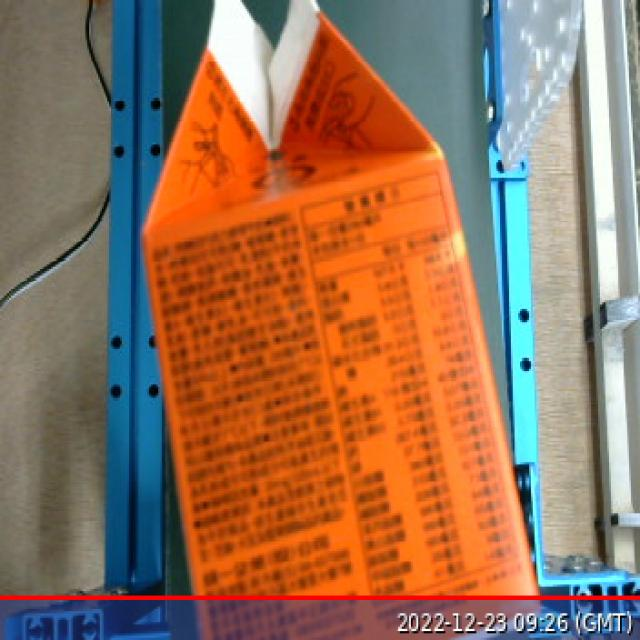non_white_jug: (131, 0, 552, 639)
